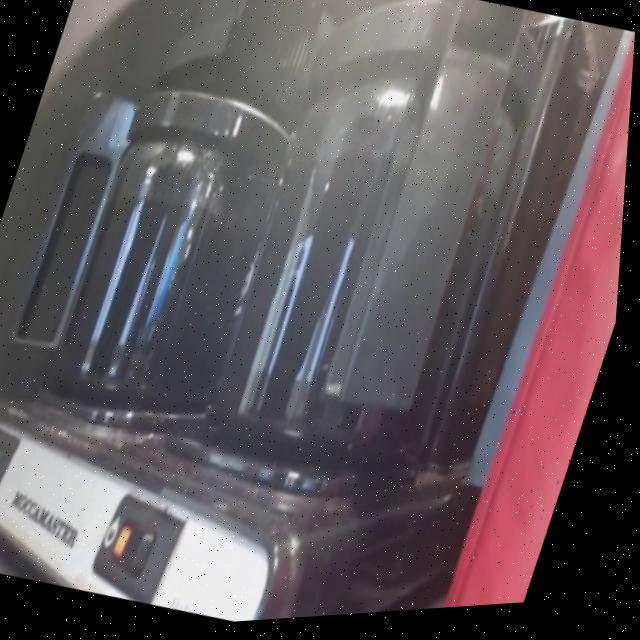coffee: (207, 117, 513, 482), (45, 138, 275, 425)
